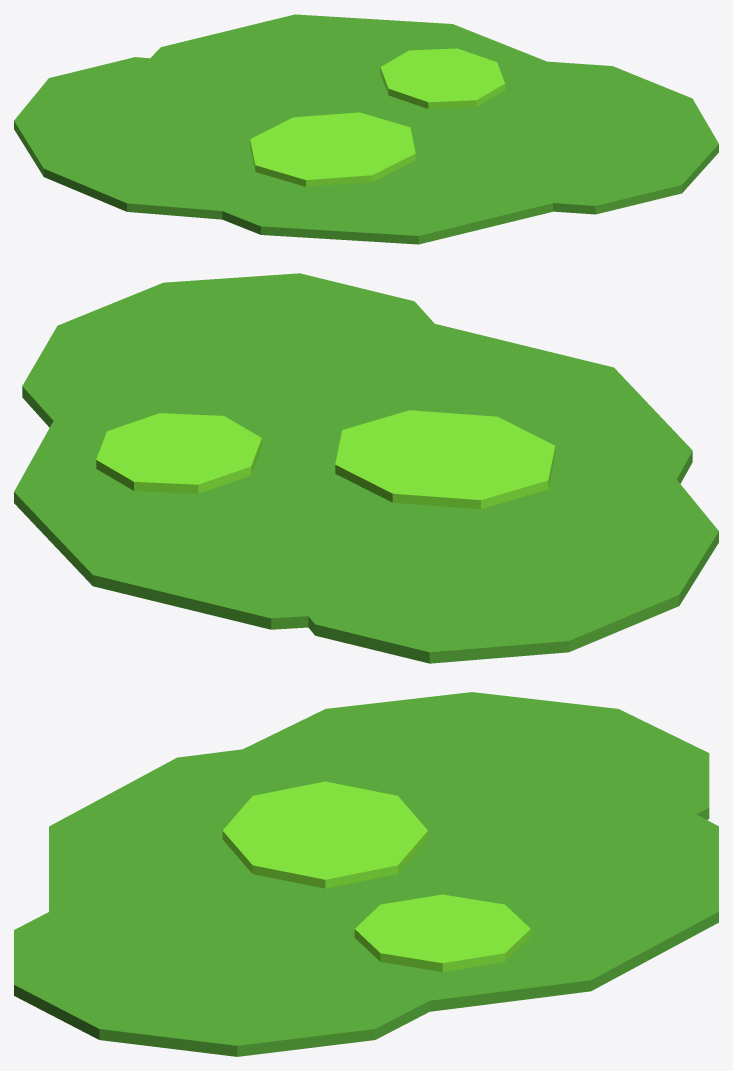
File: env_r11_slime_puddle.glb
3 renders of one model, top to bottom at view 1: azimuth 30°, elevation 25°; view 2: azimuth 150°, elevation 25°; view 3: azimuth 270°, elevation 25°, orthographic. The views are drawn at different scales.
Parts seen in each view (by area): view 1: env_r11_slime_puddle; view 2: env_r11_slime_puddle; view 3: env_r11_slime_puddle.
Part boxes in pixels (x1,y1,x2,y2): env_r11_slime_puddle: (14, 14, 718, 244); env_r11_slime_puddle: (14, 273, 718, 663); env_r11_slime_puddle: (14, 692, 718, 1056).
Size of the model in its own units: 3.8 by 0.1 by 3.2.
1 material, 1 textured.
